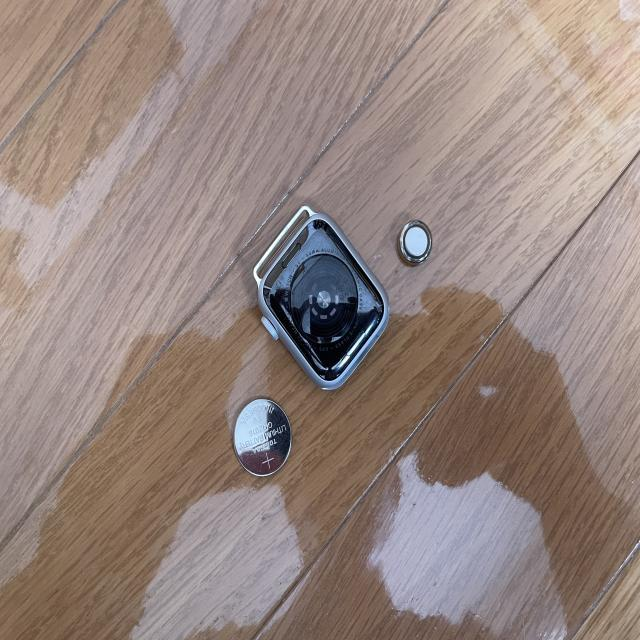COIN: (234, 399, 288, 479), (396, 218, 433, 266)
